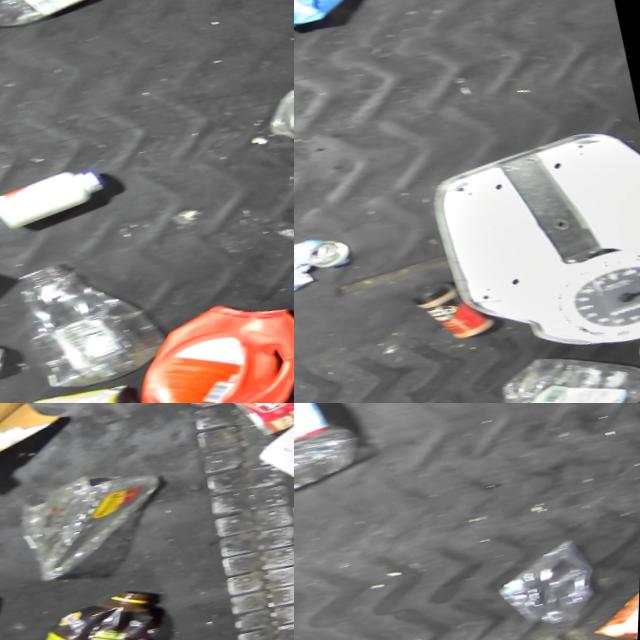can: (294, 215, 368, 309), (34, 367, 161, 403), (210, 403, 294, 439)
non_white_jug: (113, 269, 294, 403)
plastic_bottle: (13, 456, 164, 582), (486, 318, 640, 403), (0, 0, 131, 37)
